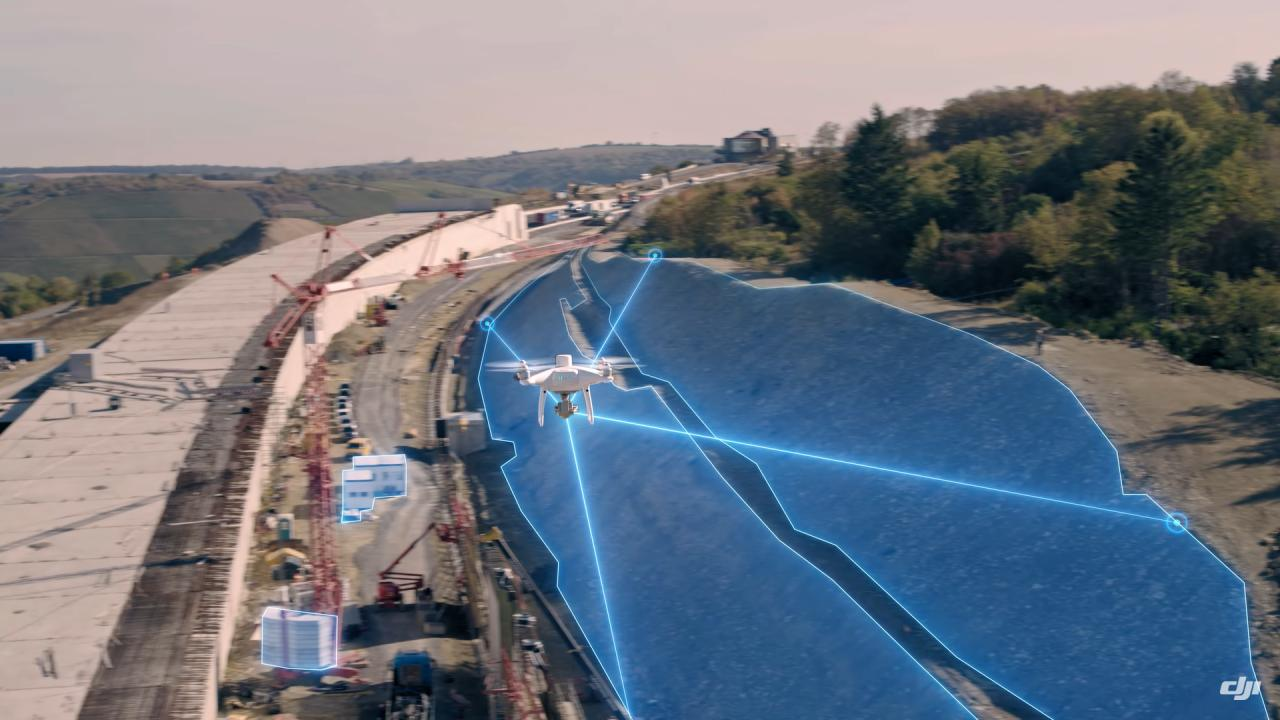Drone: (479, 344, 656, 433)
